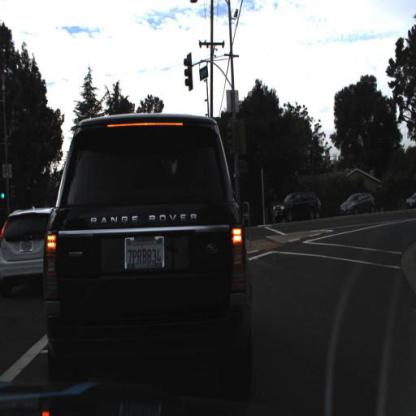car: (44, 112, 255, 378), (2, 206, 64, 287), (274, 190, 322, 224), (340, 191, 379, 218), (405, 188, 416, 209)
trafficLight-Green: (1, 186, 9, 211)
